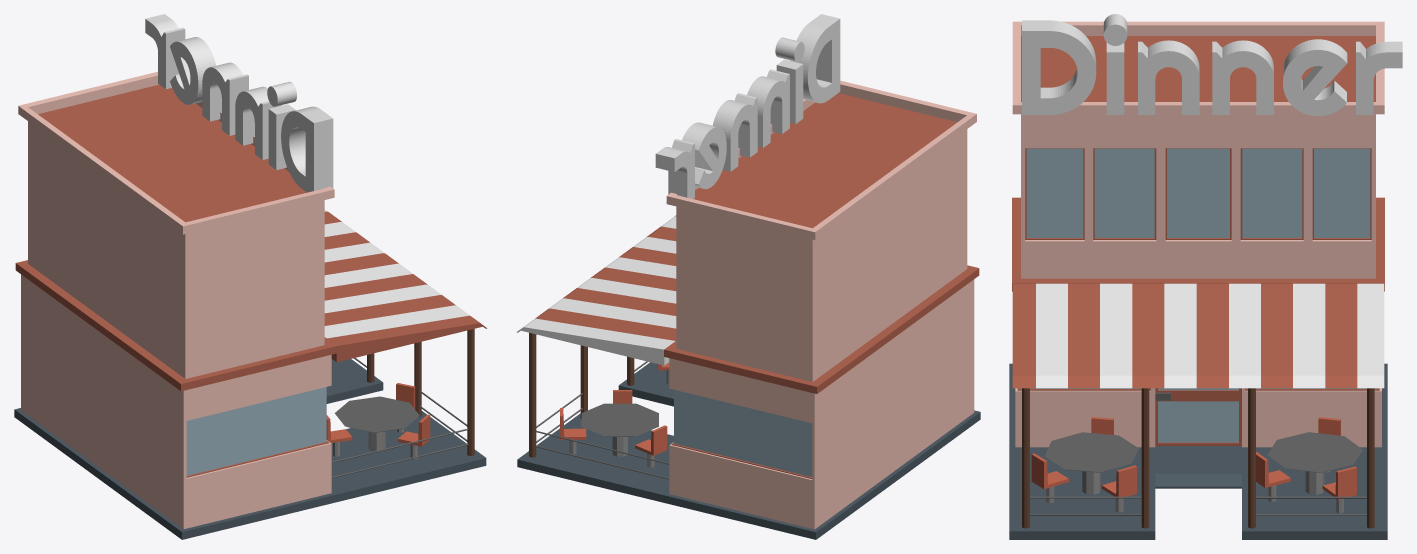
The model's file is food-shop-pp.glb.
3 views of the same model, side by side, from view 1: azimuth 30°, elevation 25°; view 2: azimuth 150°, elevation 25°; view 3: azimuth 270°, elevation 25° (orthographic). The views are drawn at different scales.
Parts seen in each view (by area): view 1: food shop-pp; view 2: food shop-pp; view 3: food shop-pp.
Part boxes in pixels (x1,y1,x2,y2): food shop-pp: (14, 14, 487, 539); food shop-pp: (516, 14, 980, 539); food shop-pp: (1009, 14, 1402, 539).
Bounding box in the file's own units: 5.5 × 6.59 × 5.41.
1 material, 1 textured.
